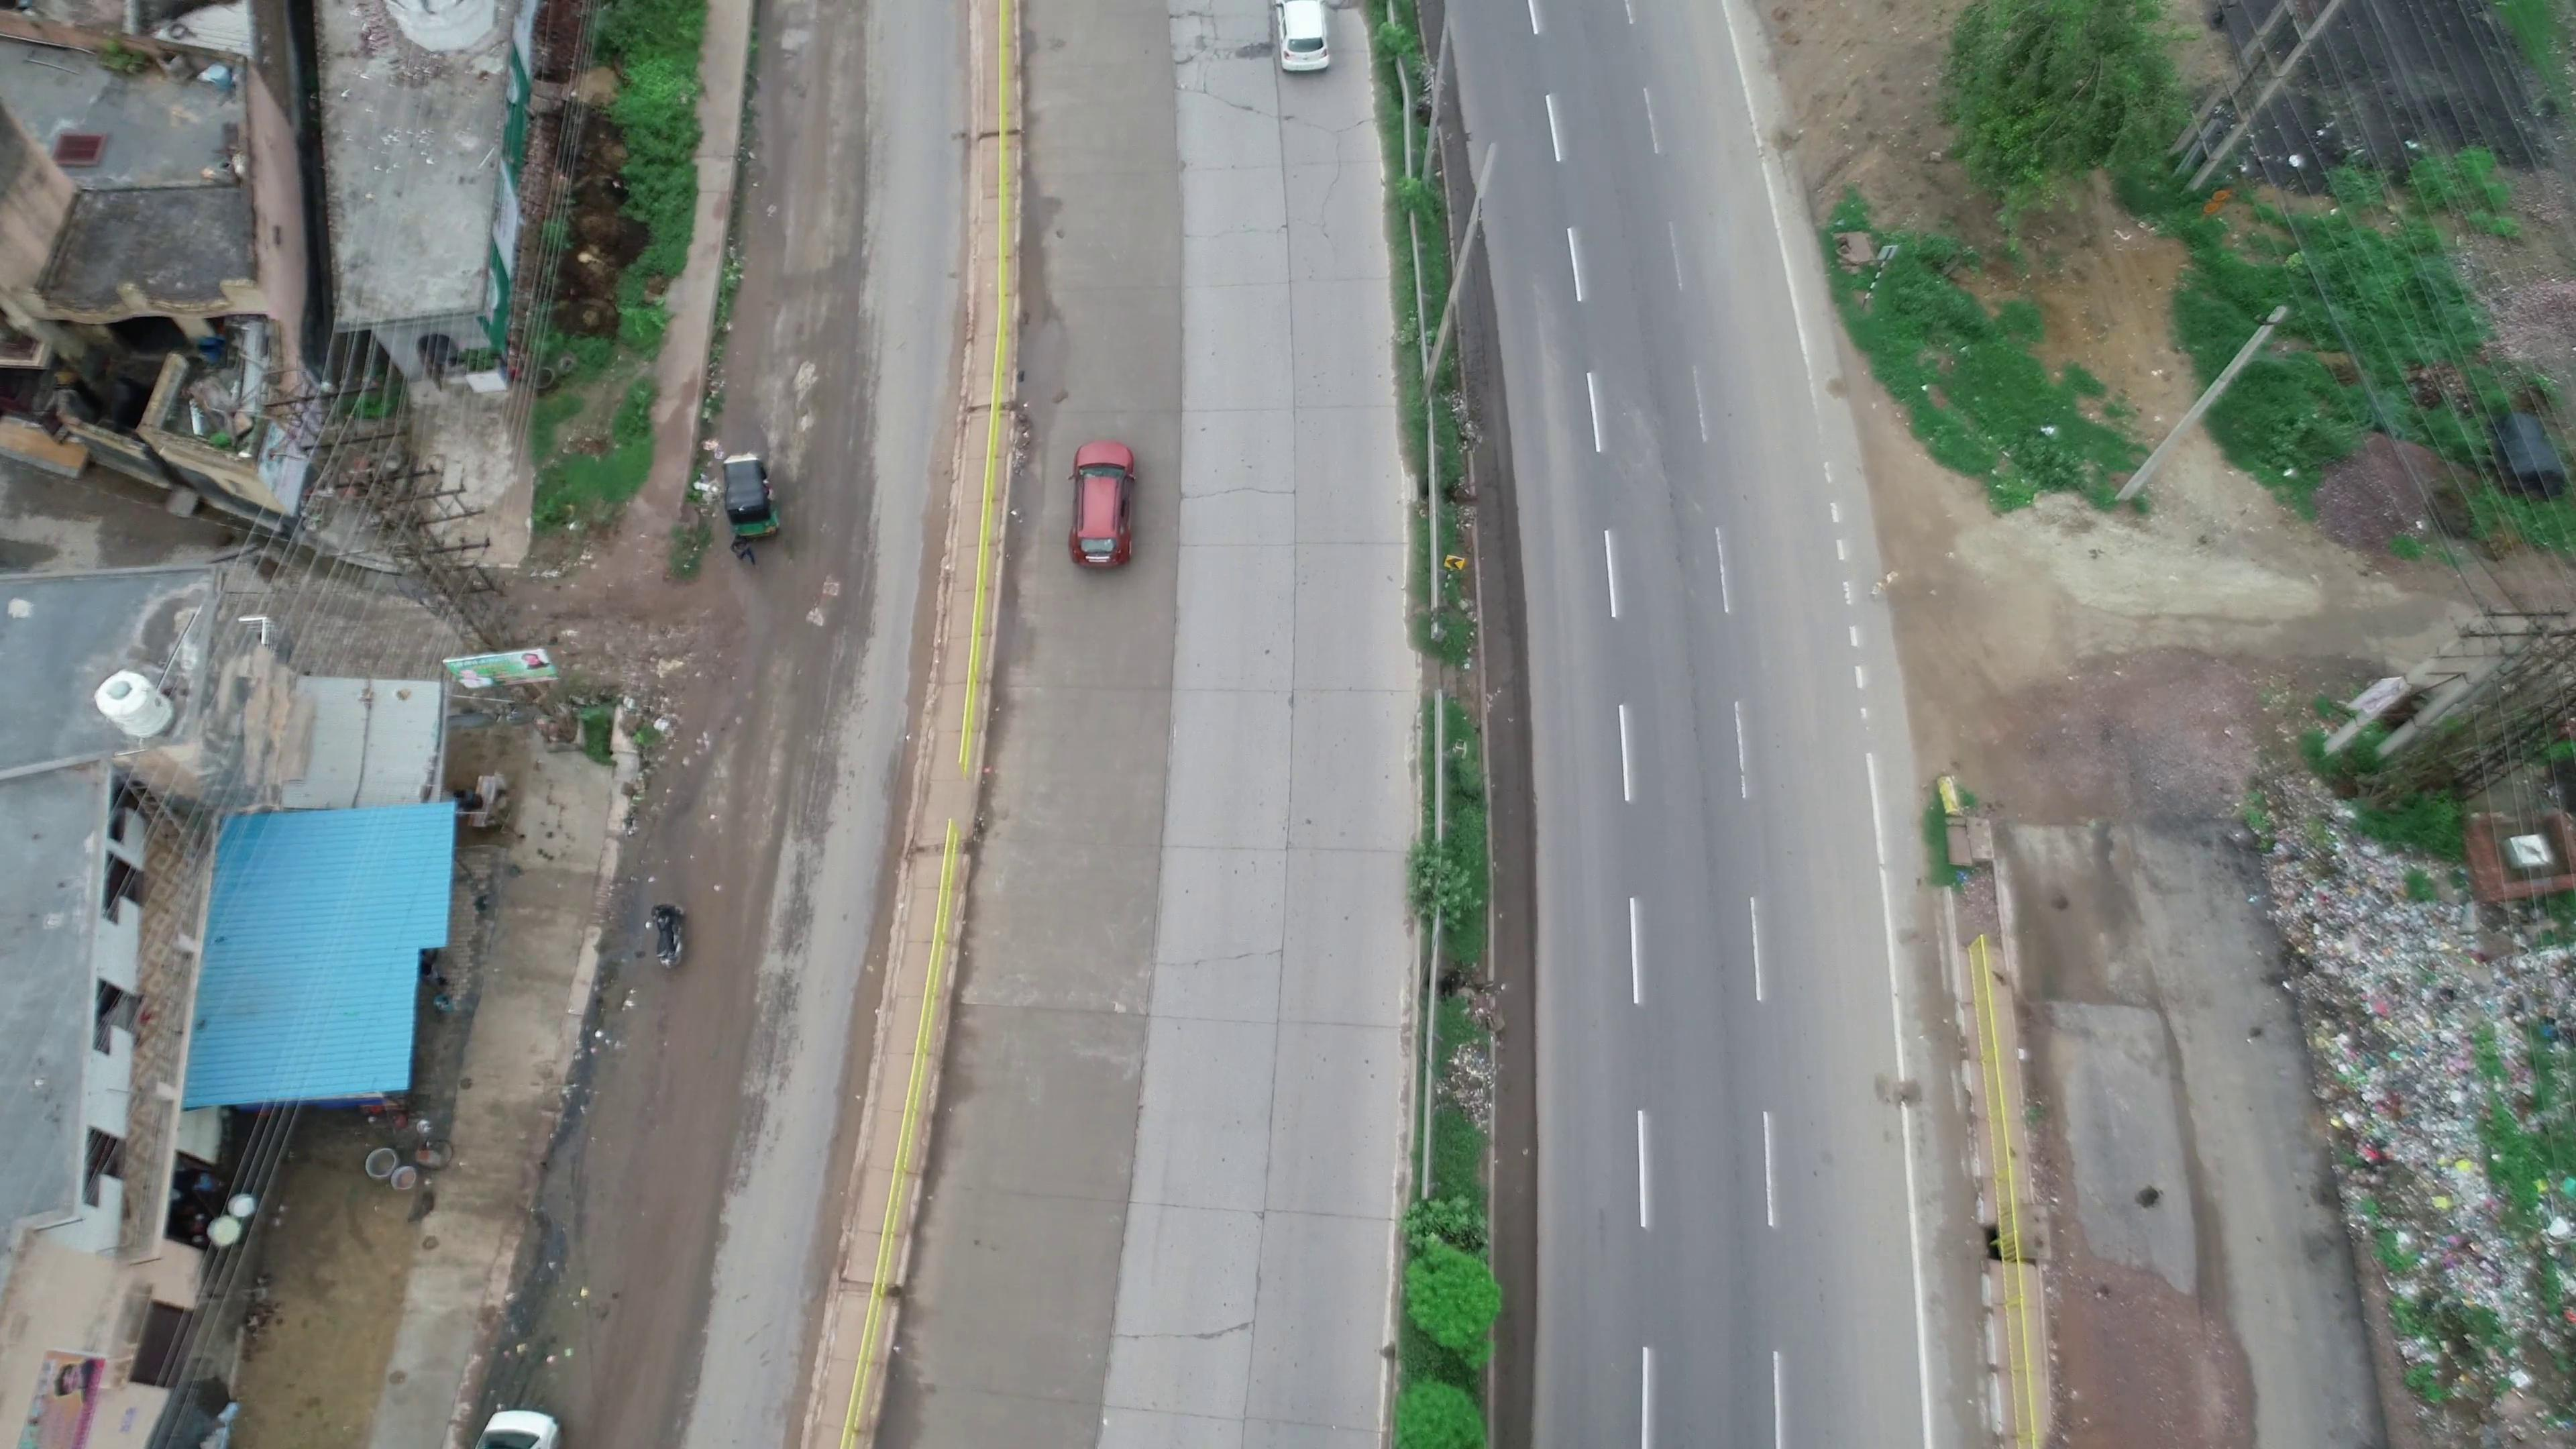Road_side_garbage: (2302, 812, 2518, 1288)
